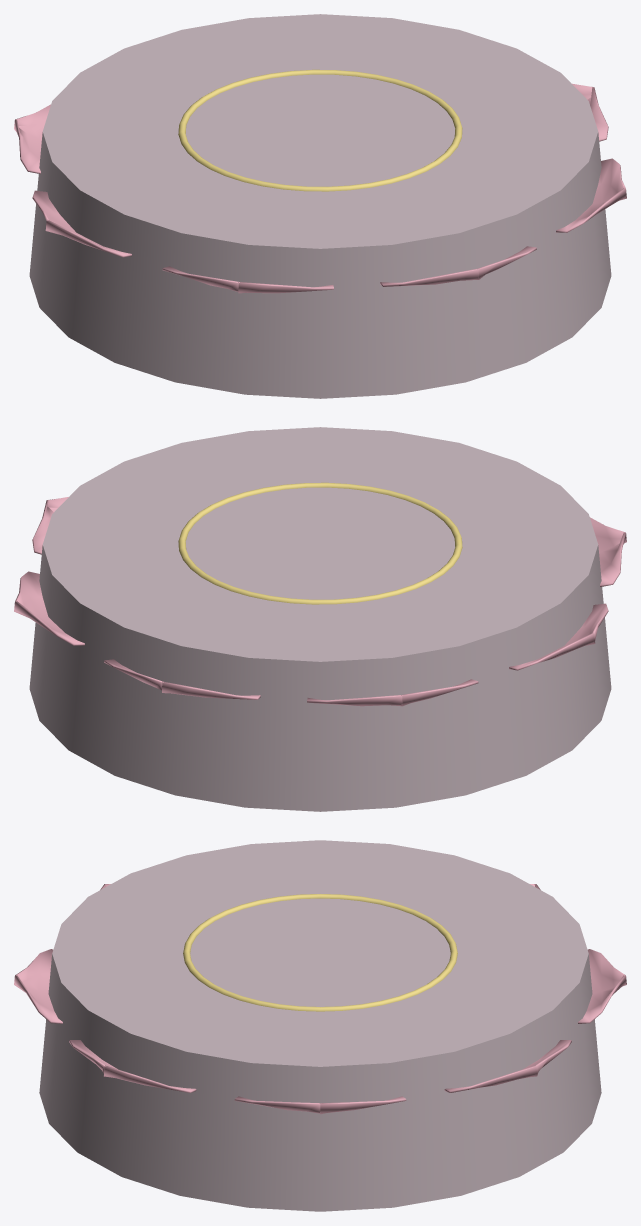
Rendered from bo_doan_dai_sen.glb.
3 renders of one model, top to bottom at view 1: azimuth 30°, elevation 25°; view 2: azimuth 150°, elevation 25°; view 3: azimuth 270°, elevation 25°, orthographic. The views are drawn at different scales.
Parts seen in each view (by area): view 1: bo_doan_dai_sen.001, bd_gold_ring, bd_petal_7, bd_petal_3, bd_petal_5, bd_petal_4, bd_petal_6, bd_petal_0; view 2: bo_doan_dai_sen.001, bd_gold_ring, bd_petal_1, bd_petal_5, bd_petal_3, bd_petal_4, bd_petal_2, bd_petal_0; view 3: bo_doan_dai_sen.001, bd_gold_ring, bd_petal_6, bd_petal_2, bd_petal_0, bd_petal_1, bd_petal_7.
Boxes of the visible parts, x1,y1,x2,y2 form: bo_doan_dai_sen.001: (29,14,611,398); bd_gold_ring: (178,69,462,191); bd_petal_7: (556,158,626,232); bd_petal_3: (14,104,50,173); bd_petal_5: (162,266,333,293); bd_petal_4: (32,190,131,257); bd_petal_6: (380,246,536,286); bd_petal_0: (572,83,608,141); bo_doan_dai_sen.001: (29,427,611,811); bd_gold_ring: (178,482,462,604); bd_petal_1: (14,571,84,645); bd_petal_5: (590,517,626,586); bd_petal_3: (307,679,478,706); bd_petal_4: (509,603,608,670); bd_petal_2: (104,659,260,699); bd_petal_0: (32,497,68,554); bo_doan_dai_sen.001: (39,840,601,1211); bd_gold_ring: (183,894,457,1011); bd_petal_6: (14,949,62,1023); bd_petal_2: (578,949,626,1023); bd_petal_0: (234,1096,406,1114); bd_petal_1: (444,1040,571,1092); bd_petal_7: (69,1040,196,1092).
Size of the model in its own units: 0.4579 by 0.1172 by 0.4579.
